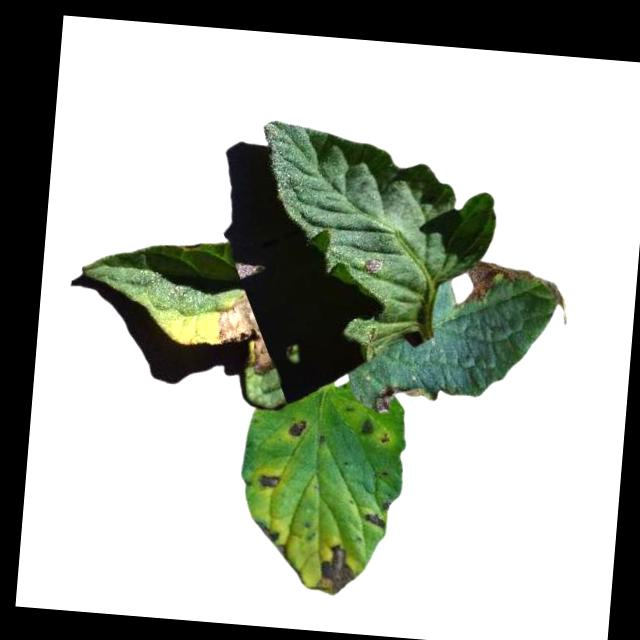Early_blight: (462, 258, 577, 325), (215, 291, 281, 373), (311, 541, 357, 600), (369, 377, 426, 418), (248, 520, 279, 543), (255, 471, 282, 492), (287, 416, 307, 440), (355, 416, 375, 440), (361, 513, 386, 530), (364, 255, 384, 274)
